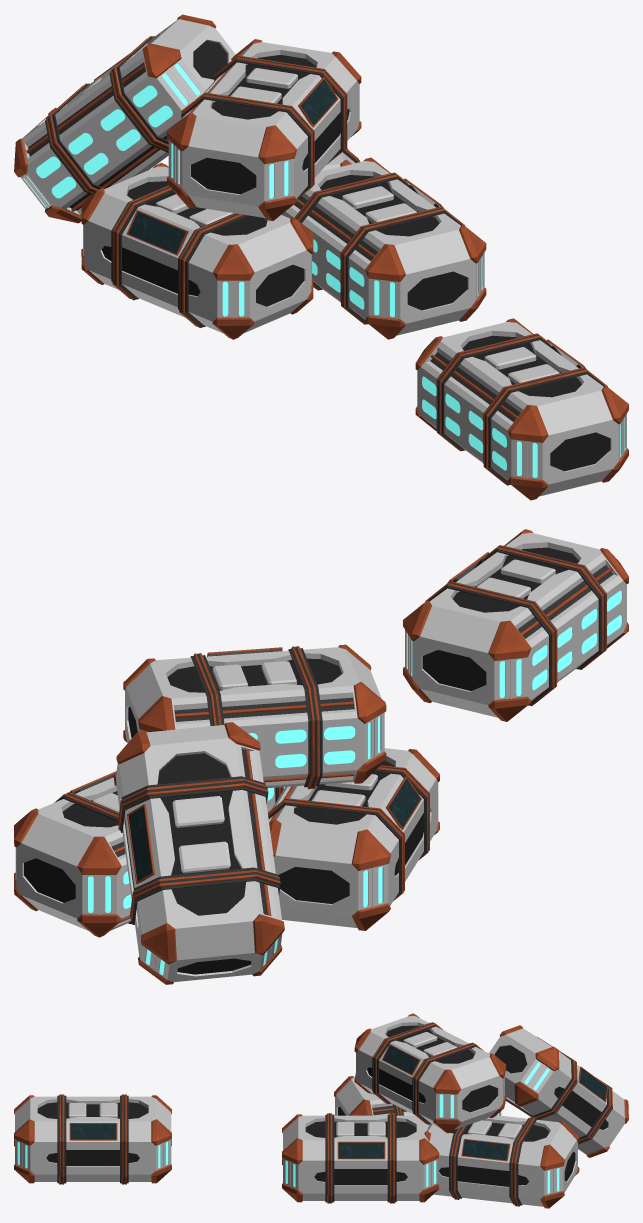
Rendered from Scifi Crate.fbx.
3 views of the same model, one above another, from view 1: azimuth 30°, elevation 25°; view 2: azimuth 150°, elevation 25°; view 3: azimuth 270°, elevation 25° (orthographic). The views are drawn at different scales.
Visible parts, largest first — view 1: Crate Pile, Crate; view 2: Crate Pile, Crate; view 3: Crate Pile, Crate.
Part boxes in pixels (x1,y1,x2,y2): Crate Pile: (14, 14, 486, 339); Crate: (415, 318, 628, 500); Crate Pile: (14, 644, 439, 984); Crate: (403, 529, 628, 721); Crate Pile: (282, 1013, 628, 1208); Crate: (14, 1094, 171, 1184).
Bounding box in the file's own units: 512 × 317 × 1377.
